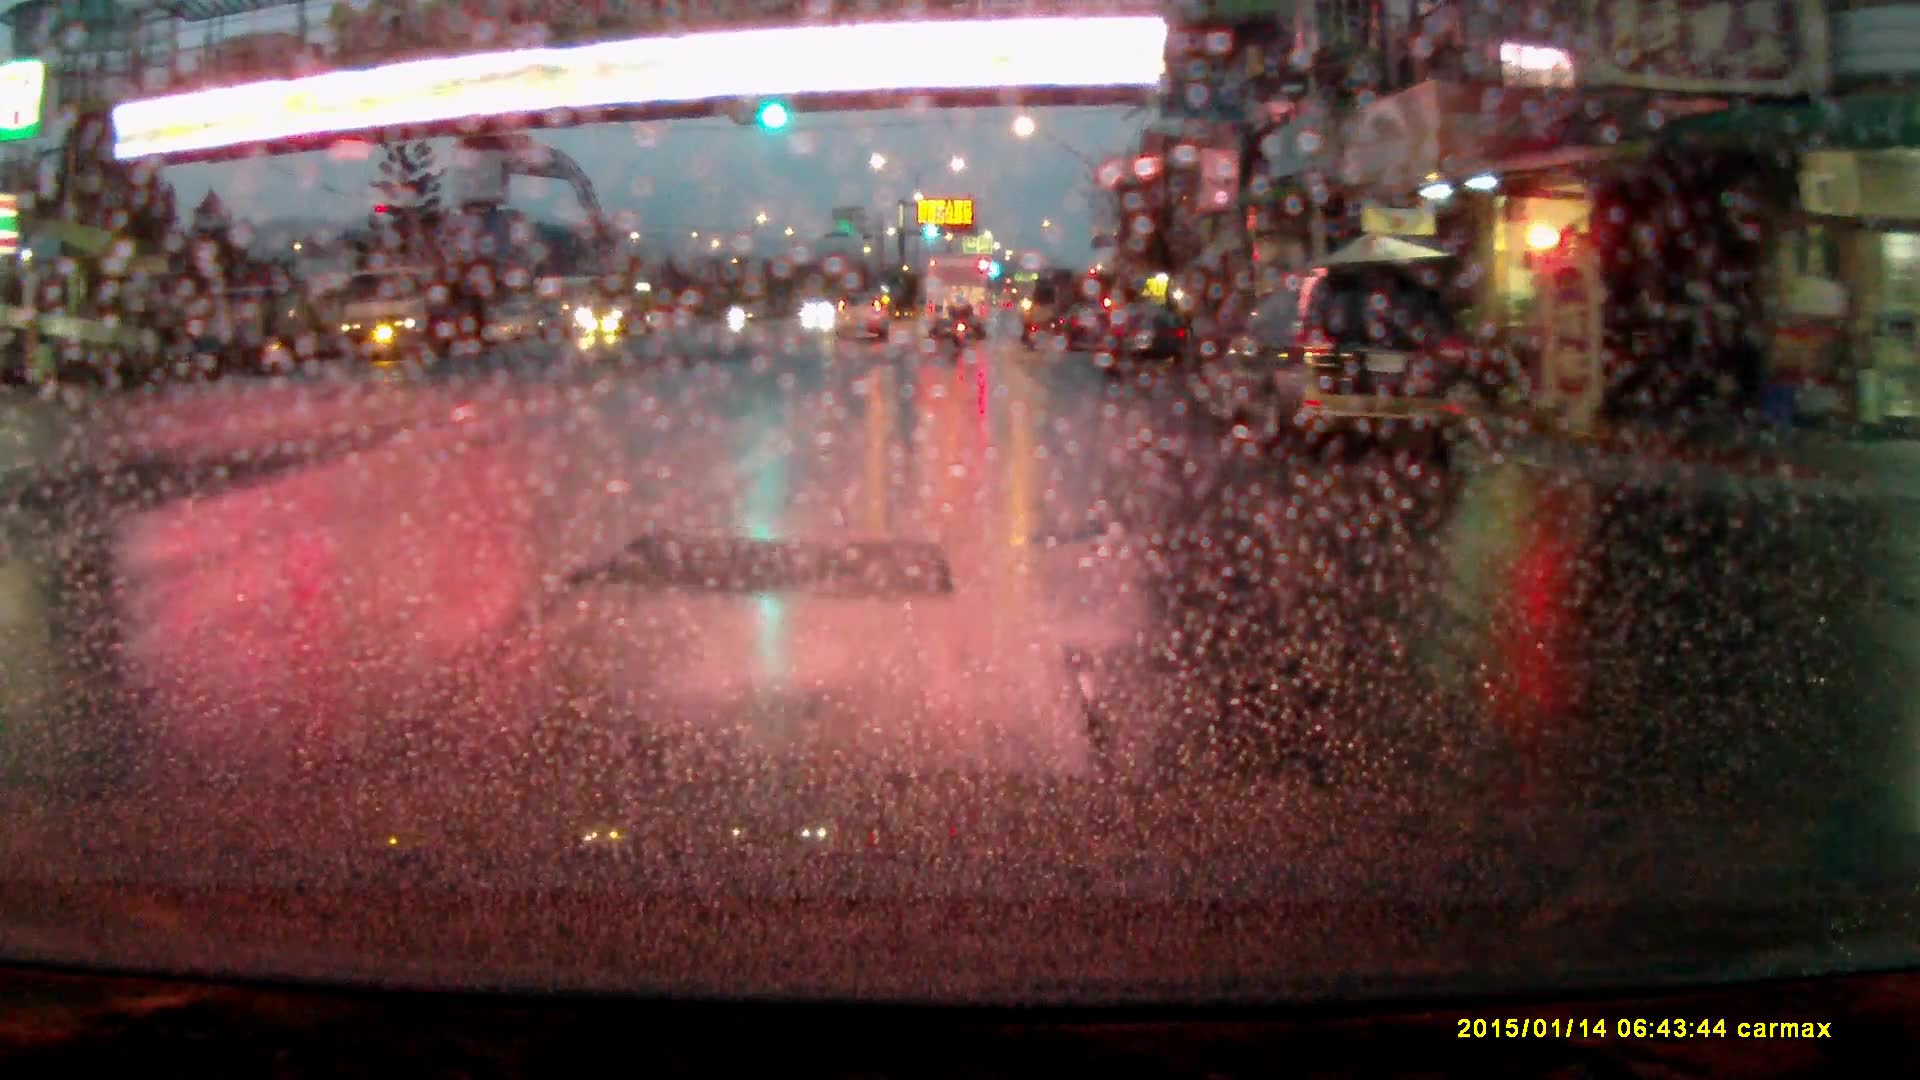rider: (949, 294, 974, 354)
vehicle: (1213, 271, 1471, 462), (1608, 292, 1746, 426), (332, 268, 487, 371), (1099, 308, 1191, 378), (923, 264, 992, 342), (577, 286, 665, 345), (835, 288, 893, 337), (1064, 307, 1118, 358)
